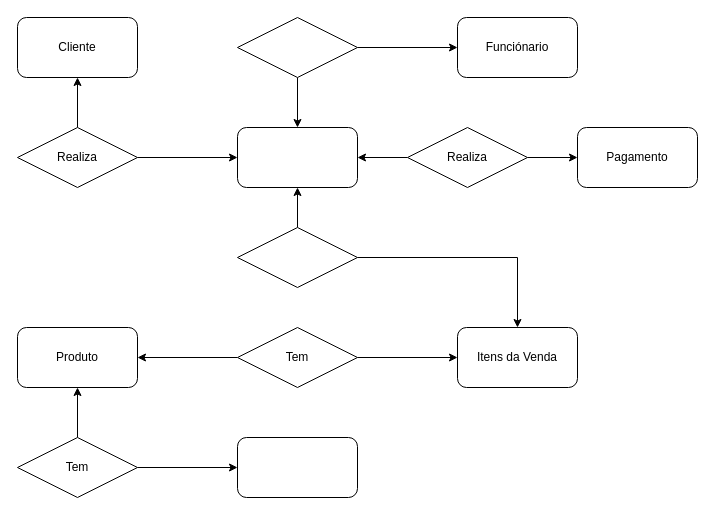
This 715x515 diagram has some shape labels left out. Here are the shapes that lost their labels. From the top down, the box of each, then its label:
(236, 16, 358, 78): Participa
(236, 126, 358, 188): Venda
(236, 226, 358, 288): Detalha
(236, 436, 358, 498): Estoque
